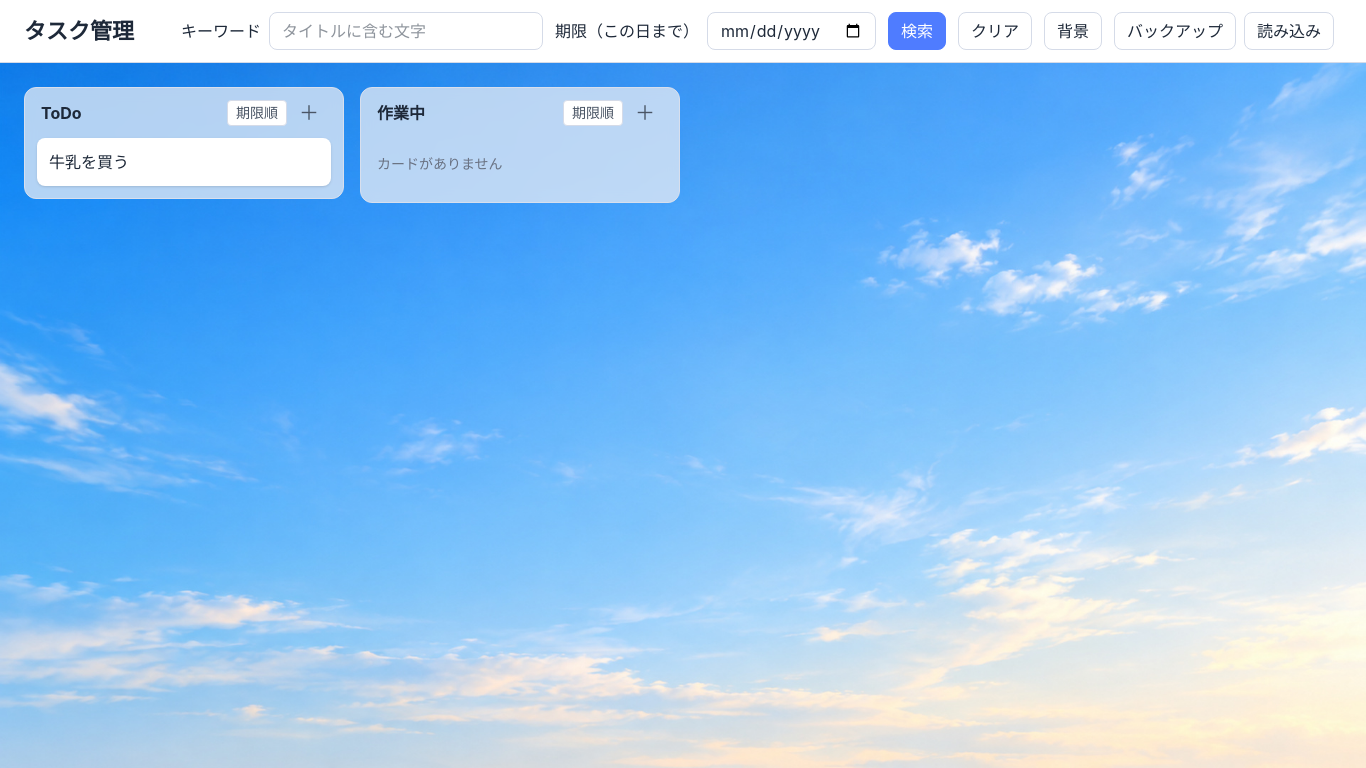
Test case: 背景を選ぶと、すぐ切り替わって窓が閉じ、保存される
The image size is (1366, 768).
Check: the element "ToDo" is shown, box top-left (24, 87), bottom-right (344, 199)
Click the button "背景" at {"x": 1073, "y": 31}, box top-left (1044, 12), bottom-right (1102, 50)
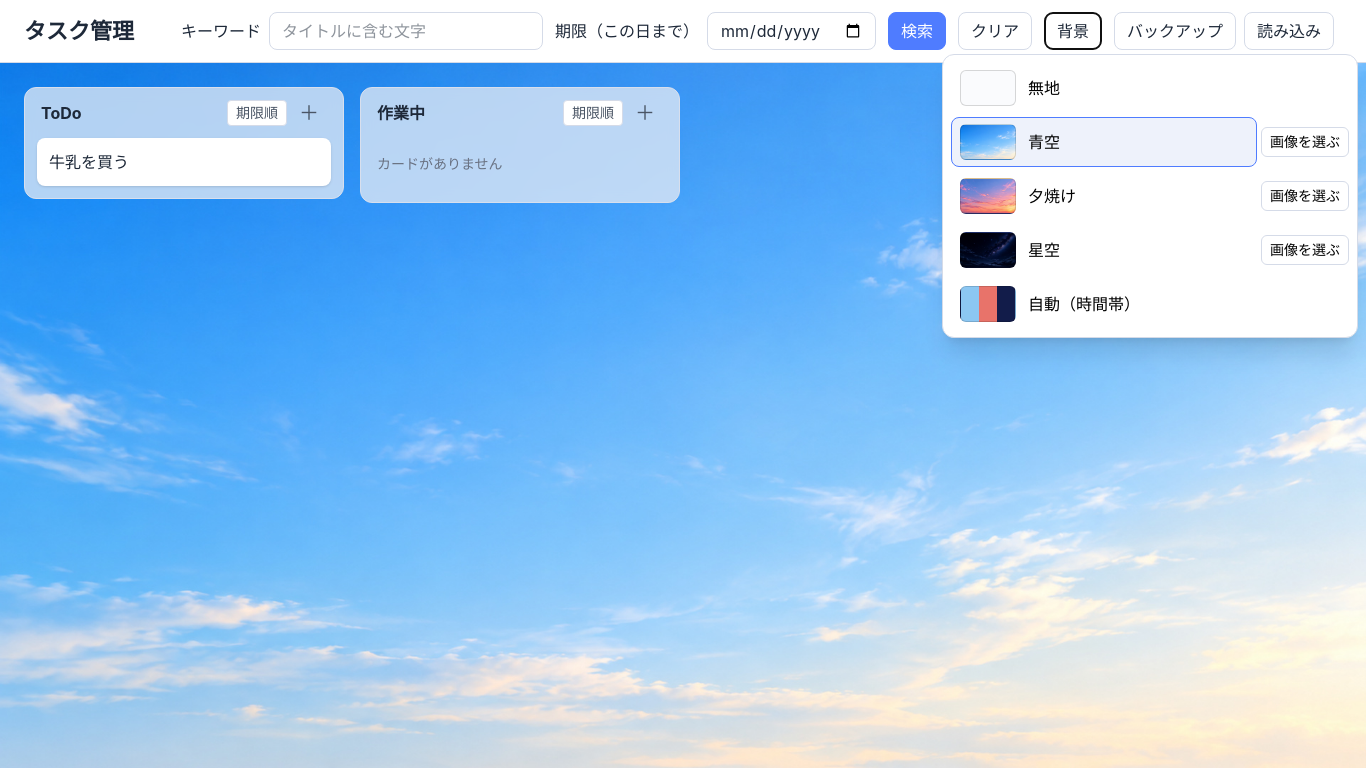
Click the radio button labelled "星空" at {"x": 988, "y": 250}, box top-left (951, 225), bottom-right (1257, 275)
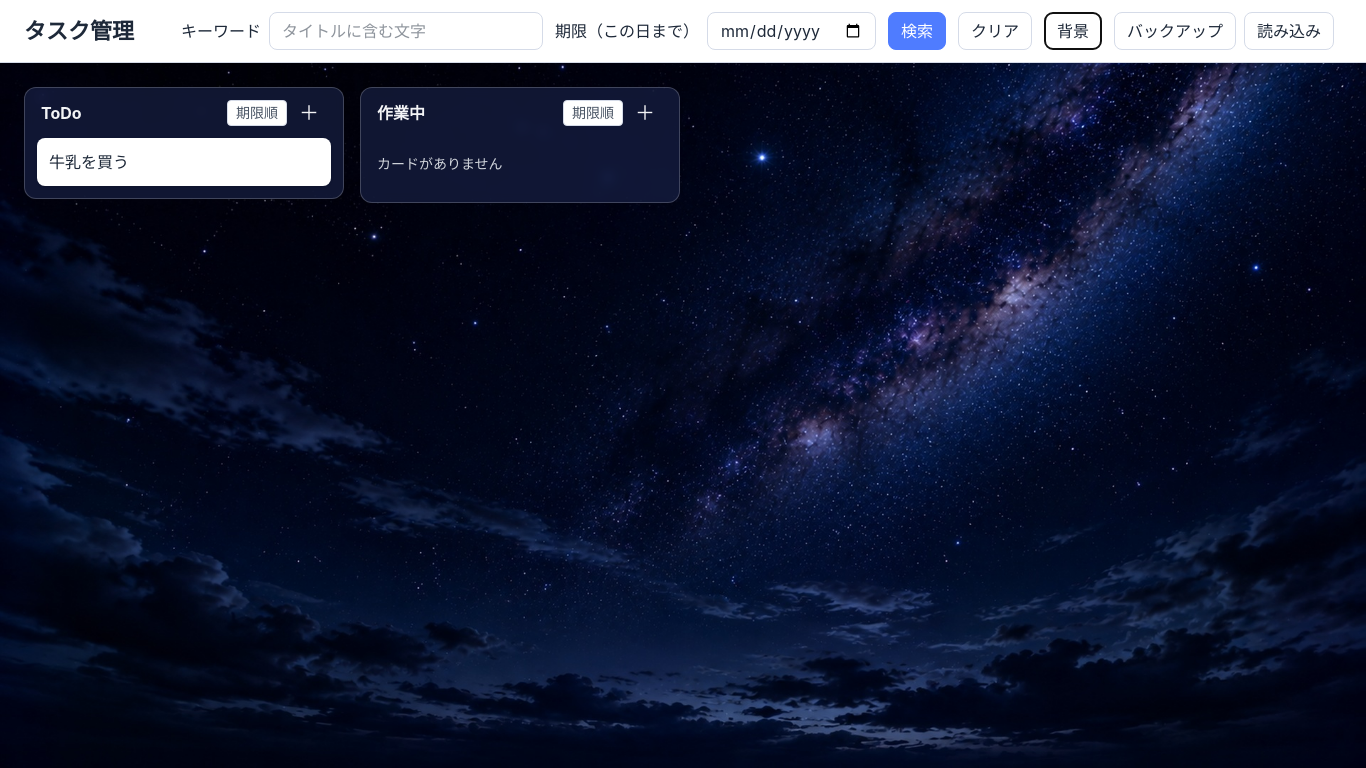
Check: the dialog "背景を選ぶ" is gone
